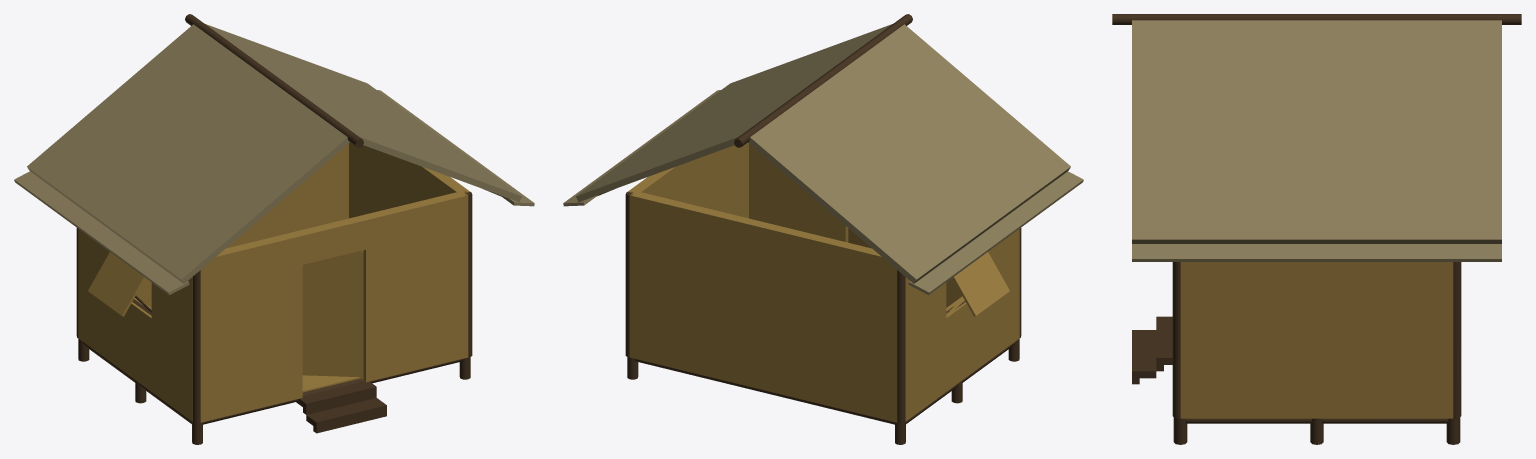
Rendered from traditional-vietnamese-village-hut.glb.
3 views of the same model, side by side, from view 1: azimuth 30°, elevation 25°; view 2: azimuth 150°, elevation 25°; view 3: azimuth 270°, elevation 25° (orthographic). The views are drawn at different scales.
Visible parts, largest first — view 1: Mesh_PlanesA, Mesh_HutRoom_WallFront_L, Mesh_HutRoom_WallFront_R, Mesh_PlanesB, Mesh_DoorLeaf, Mesh_HutRoom_WallLeft, Mesh_HutRoom_WallBack, Mesh_HutRoom_WallRight_R, Mesh_HutRoom_WallRight_L, Mesh_HutRoom_WallRight_Sill, Mesh_HutRoom_WallFront_Lintel, Mesh_ShutterLeaf (+12 smaller); view 2: Mesh_HutRoom_WallBack, Mesh_PlanesA, Mesh_PlanesB, Mesh_HutRoom_WallLeft, Mesh_HutRoom_WallRight_L, Mesh_HutRoom_WallFront_L, Mesh_HutRoom_WallRight_R, Mesh_HutRoom_WallRight_Sill, Mesh_ShutterLeaf, Mesh_RidgePole, Mesh_Pillar_2, Mesh_ThatchEaveR2 (+4 smaller); view 3: Mesh_PlanesB, Mesh_HutRoom_WallLeft, Mesh_RidgePole, Mesh_ThatchEaveL1, Mesh_ThatchEaveL2, Mesh_ThatchEaveL3, Mesh_SupportLog_L, Mesh_Pillar_1, Mesh_Pillar_3, Mesh_StepsStep1, Mesh_StepsStep2.
Part boxes in pixels (x1,y1,x2,y2): Mesh_PlanesA: [27, 24, 349, 283]; Mesh_HutRoom_WallFront_L: [360, 192, 468, 382]; Mesh_HutRoom_WallFront_R: [200, 231, 302, 422]; Mesh_PlanesB: [205, 24, 521, 201]; Mesh_DoorLeaf: [302, 250, 363, 379]; Mesh_HutRoom_WallLeft: [349, 142, 470, 218]; Mesh_HutRoom_WallBack: [136, 143, 348, 307]; Mesh_HutRoom_WallRight_R: [151, 277, 192, 421]; Mesh_HutRoom_WallRight_L: [78, 229, 118, 367]; Mesh_HutRoom_WallRight_Sill: [118, 298, 152, 391]; Mesh_HutRoom_WallFront_Lintel: [295, 216, 366, 264]; Mesh_ShutterLeaf: [88, 252, 145, 316]; Mesh_HutRoom_WallBack: [629, 192, 897, 422]; Mesh_PlanesA: [748, 24, 1070, 283]; Mesh_PlanesB: [576, 24, 892, 201]; Mesh_HutRoom_WallLeft: [627, 142, 748, 218]; Mesh_HutRoom_WallRight_L: [905, 277, 946, 421]; Mesh_HutRoom_WallFront_L: [749, 143, 848, 242]; Mesh_HutRoom_WallRight_R: [979, 229, 1019, 367]; Mesh_HutRoom_WallRight_Sill: [945, 296, 979, 391]; Mesh_ShutterLeaf: [952, 252, 1009, 316]; Mesh_RidgePole: [734, 14, 912, 147]; Mesh_Pillar_2: [897, 270, 905, 423]; Mesh_ThatchEaveR2: [962, 208, 1034, 259]; Mesh_PlanesB: [1132, 20, 1501, 243]; Mesh_HutRoom_WallLeft: [1180, 262, 1453, 418]; Mesh_RidgePole: [1112, 14, 1521, 24]; Mesh_ThatchEaveL1: [1132, 244, 1268, 261]; Mesh_ThatchEaveL2: [1248, 244, 1385, 261]; Mesh_ThatchEaveL3: [1365, 244, 1501, 261]; Mesh_SupportLog_L: [1185, 418, 1448, 423]; Mesh_Pillar_1: [1172, 262, 1180, 418]; Mesh_Pillar_3: [1453, 262, 1461, 418]; Mesh_StepsStep1: [1132, 330, 1156, 378]; Mesh_StepsStep2: [1156, 316, 1172, 364].
Bounding box in the file's own units: 5.2 × 3.96 × 4.2.
